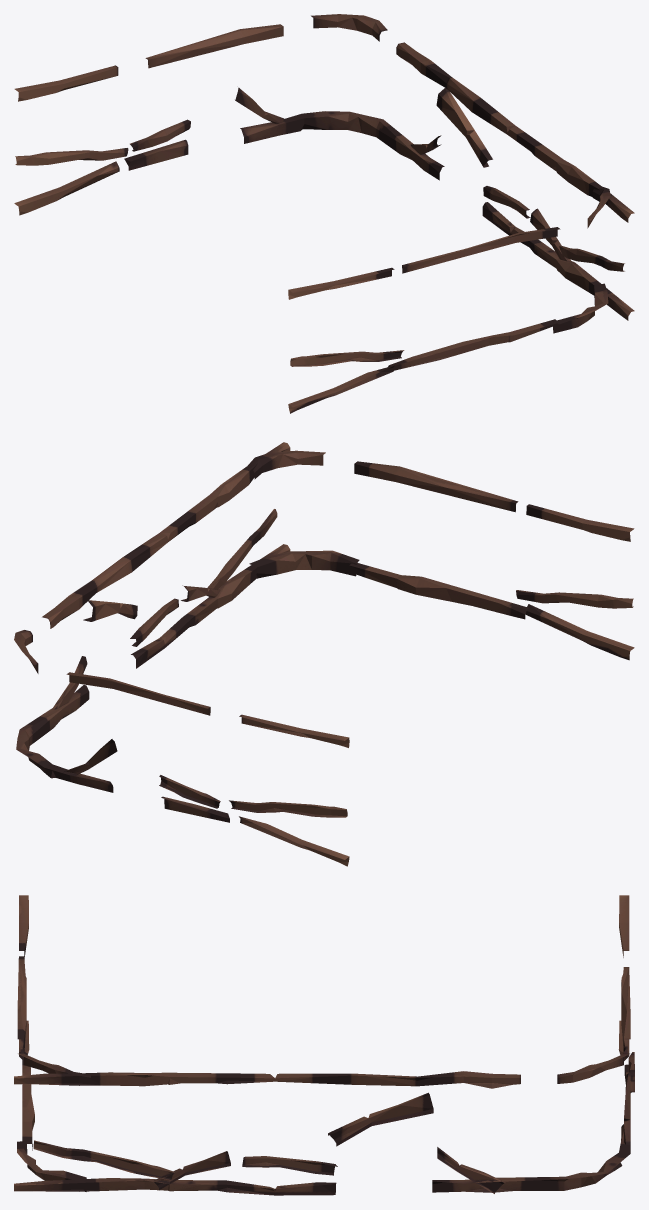
The model's file is Wood_01.FBX.
3 renders of one model, top to bottom at view 1: azimuth 30°, elevation 25°; view 2: azimuth 150°, elevation 25°; view 3: azimuth 270°, elevation 25°, orthographic. The views are drawn at different scales.
Parts seen in each view (by area): view 1: Wood_01; view 2: Wood_01; view 3: Wood_01.
Boxes of the visible parts, bbox=[...] form: Wood_01: bbox=[14, 14, 634, 413]; Wood_01: bbox=[14, 442, 634, 866]; Wood_01: bbox=[14, 895, 634, 1195].
Size of the model in its own units: 17.5 by 6.28 by 25.17.
